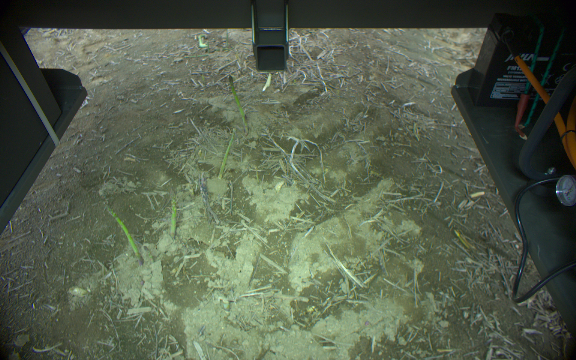aspa: (102, 200, 142, 266), (227, 74, 249, 133), (218, 125, 236, 180), (167, 189, 179, 241)
